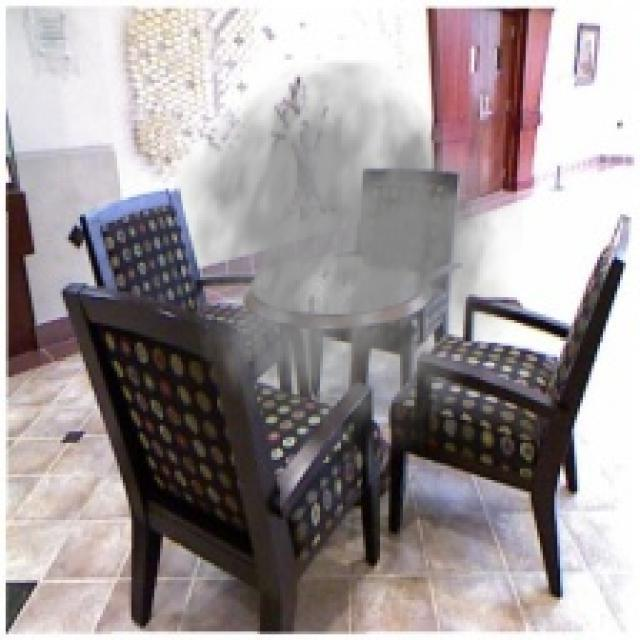Smoke: (174, 57, 523, 474)
